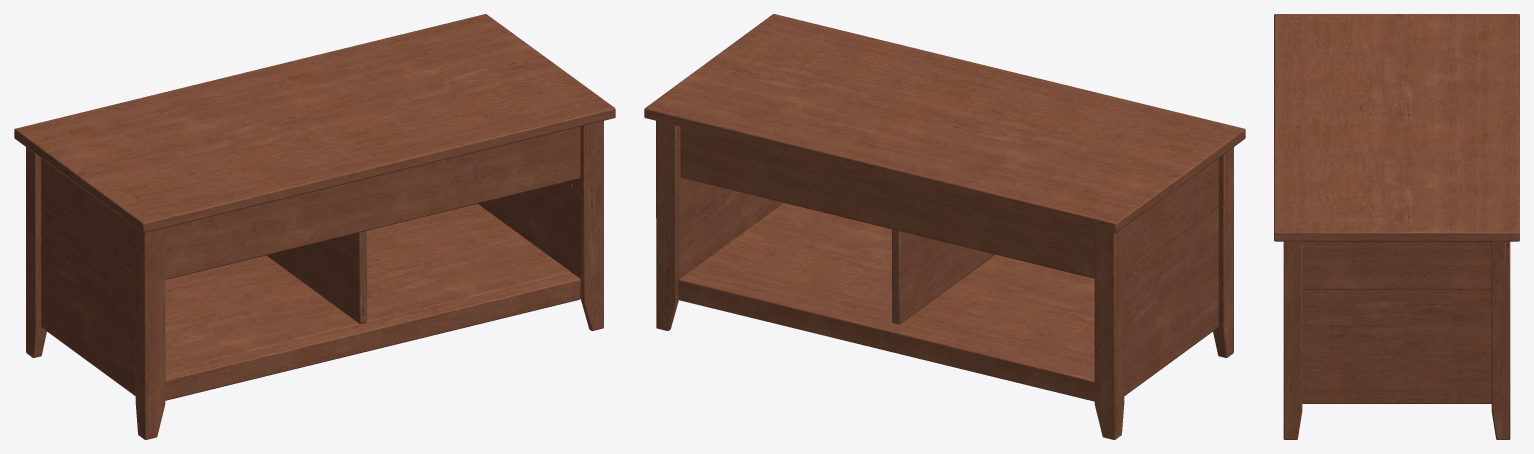
The picture shows the model from 3 angles, left to right: view 1: azimuth 30°, elevation 25°; view 2: azimuth 150°, elevation 25°; view 3: azimuth 270°, elevation 25°; orthographic projection. The views are drawn at different scales.
Visible parts, largest first — view 1: B07J29N3R4; view 2: B07J29N3R4; view 3: B07J29N3R4.
Part boxes in pixels (x1,y1,x2,y2): B07J29N3R4: [14, 14, 615, 439]; B07J29N3R4: [644, 14, 1245, 439]; B07J29N3R4: [1274, 14, 1519, 439].
Size of the model in its own units: 1.02 by 0.4572 by 0.4826.
Materials: 1 (1 with a texture image).
